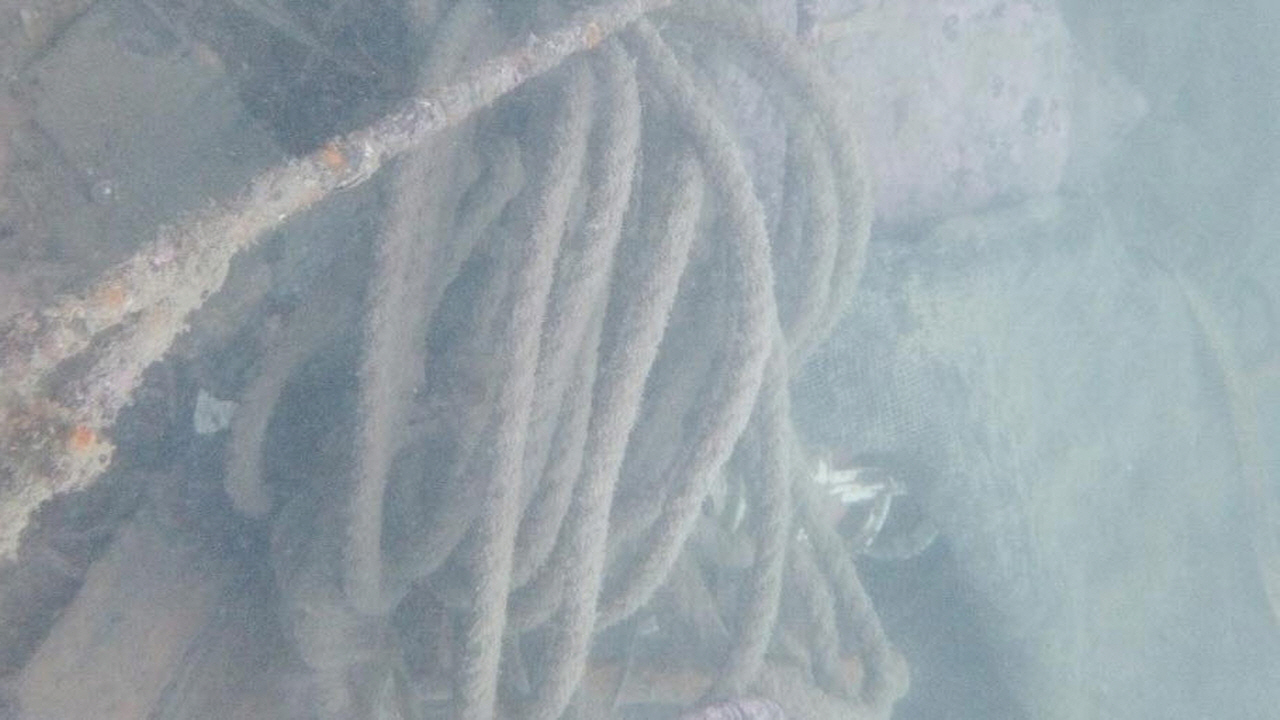bundle of ropes: (215, 0, 917, 720)
